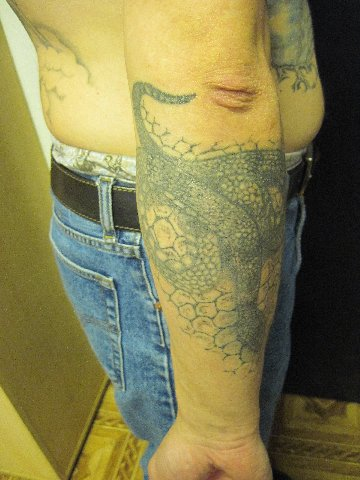tatu7_zmeya: (126, 81, 271, 356)
